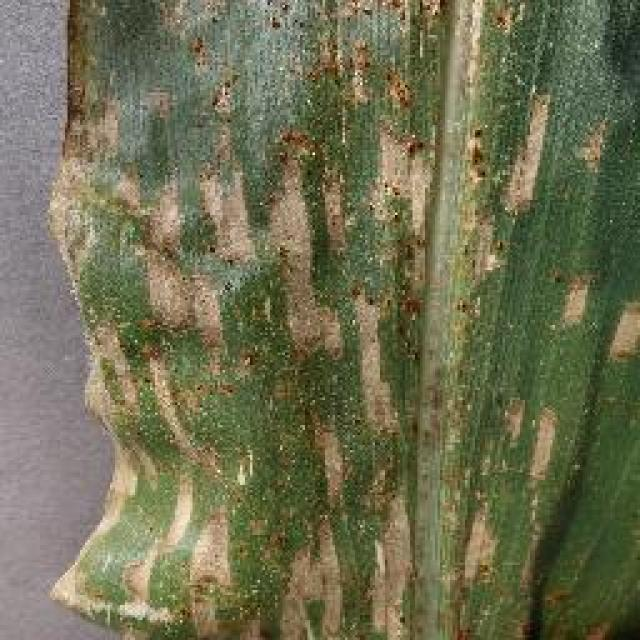Corn___Cercospora_leaf_spot Gray_leaf_spot: (143, 0, 635, 640)
